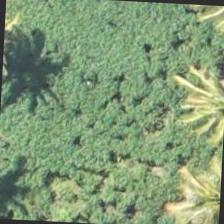Kelapa_Sawit: (171, 153, 223, 223)
